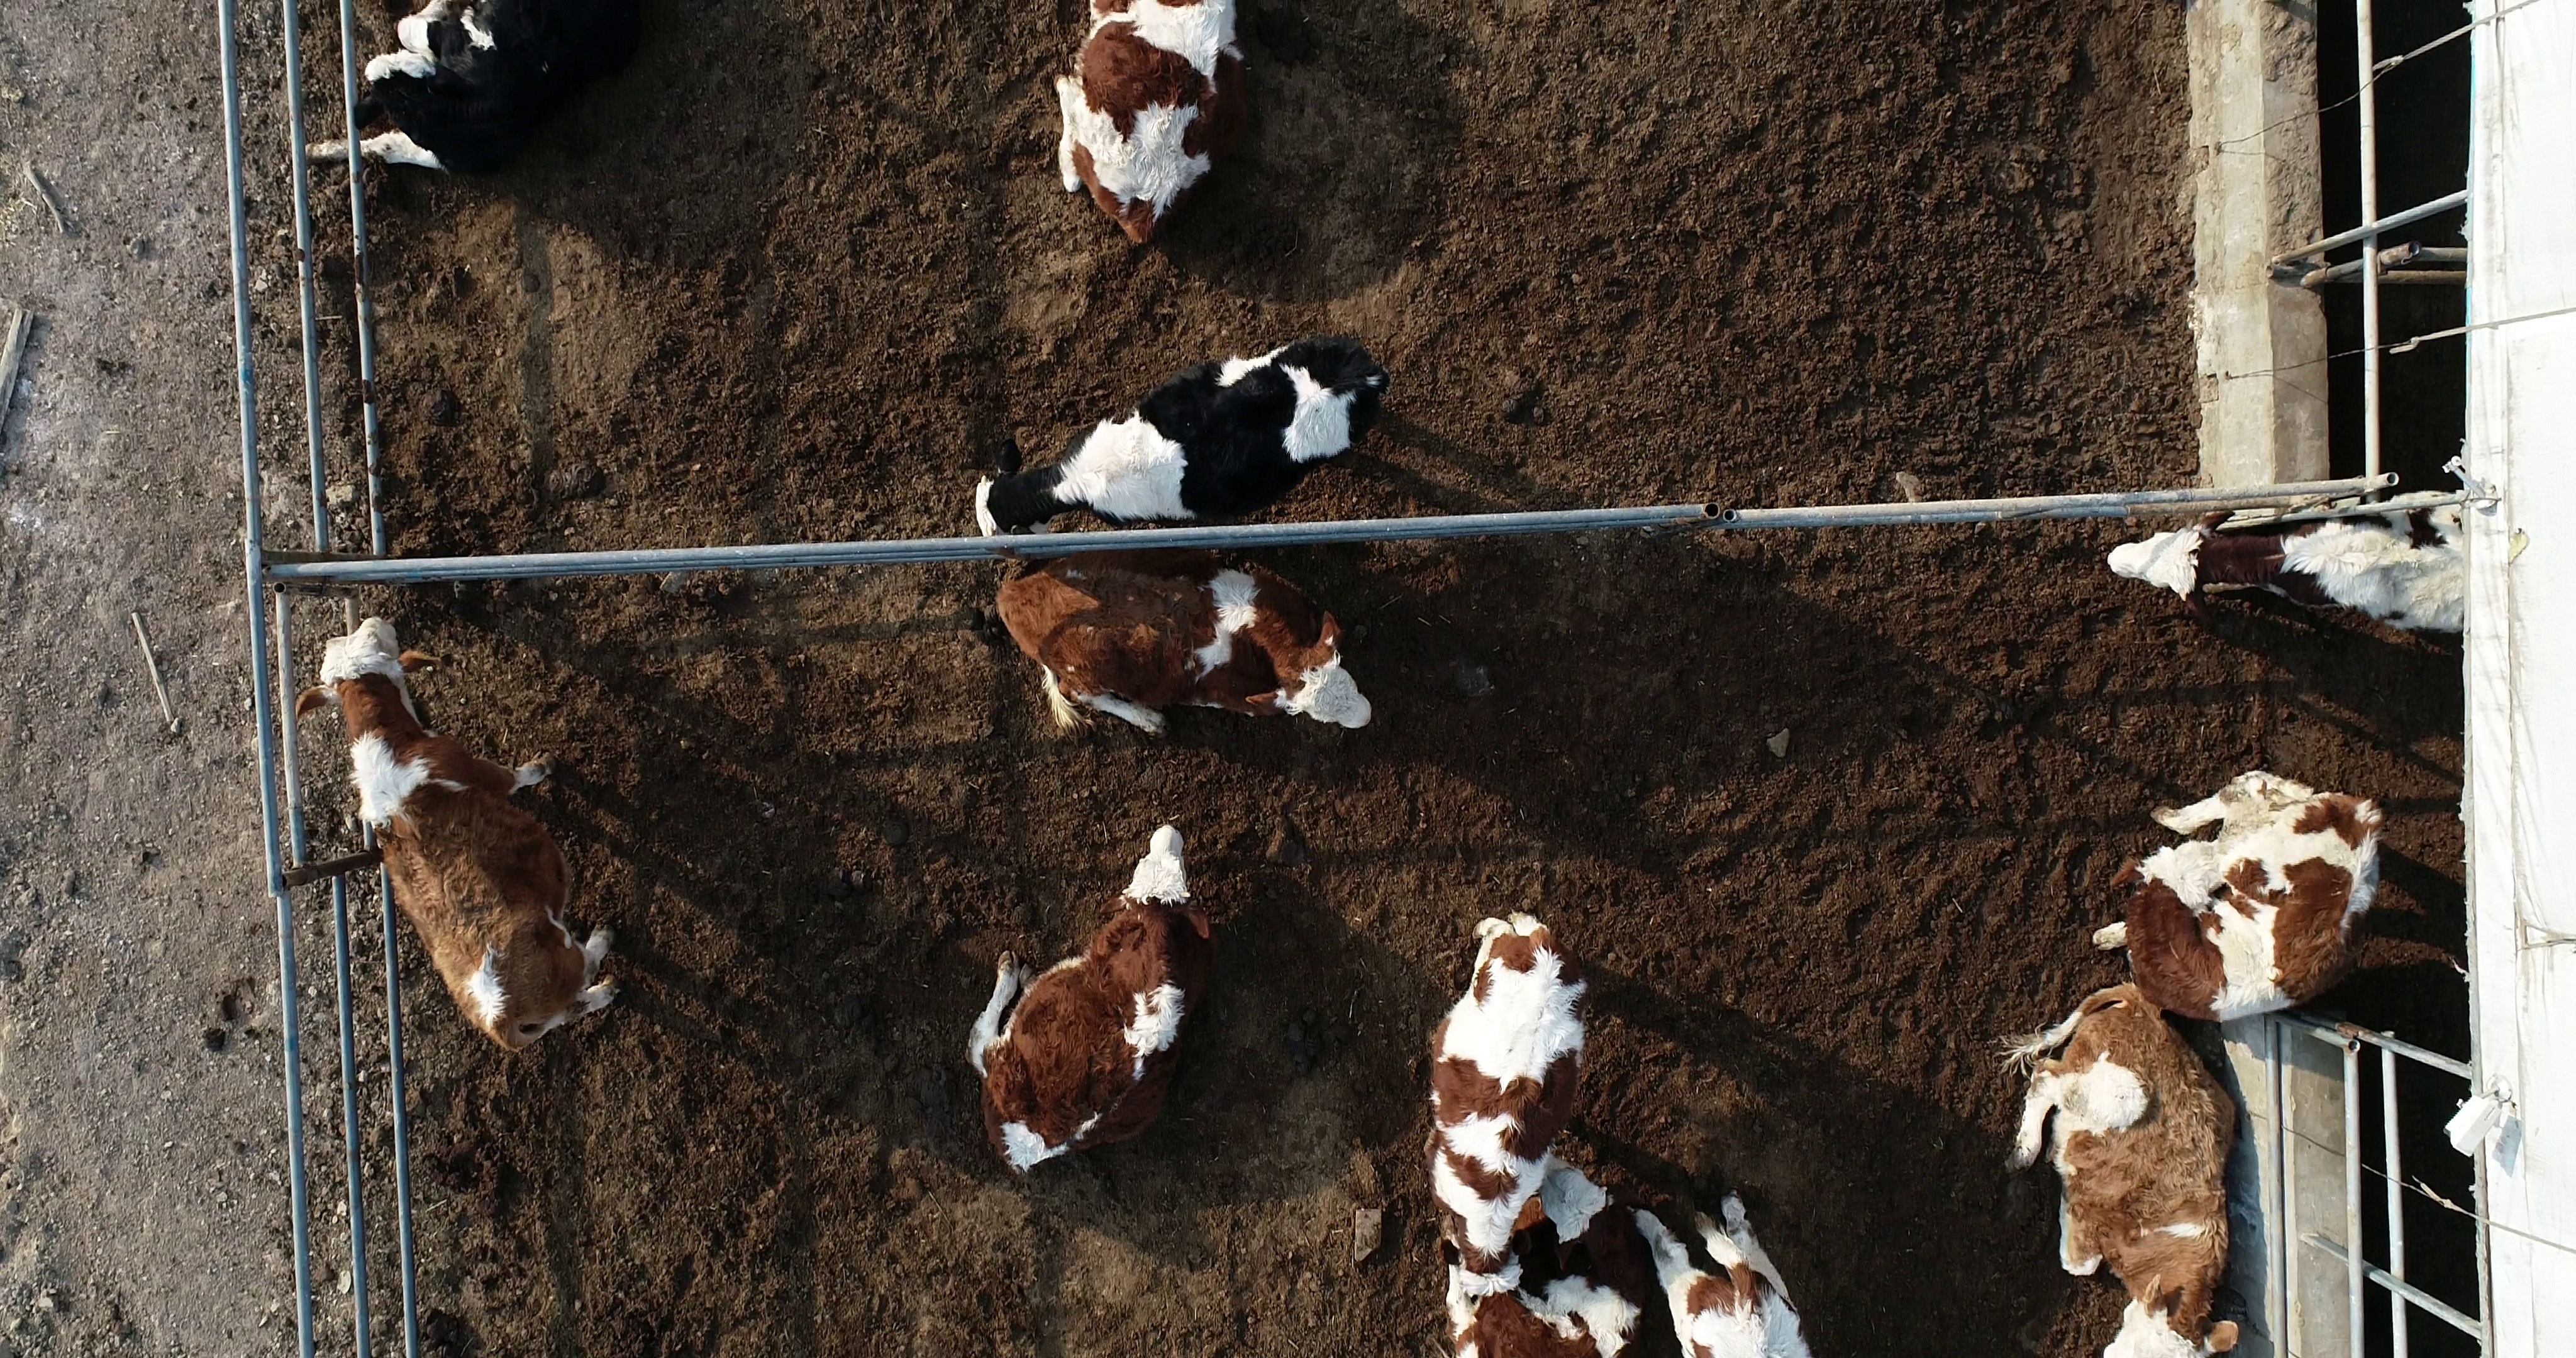cattle: (290, 608, 625, 1058), (968, 331, 1395, 528), (1416, 903, 1593, 1300)
